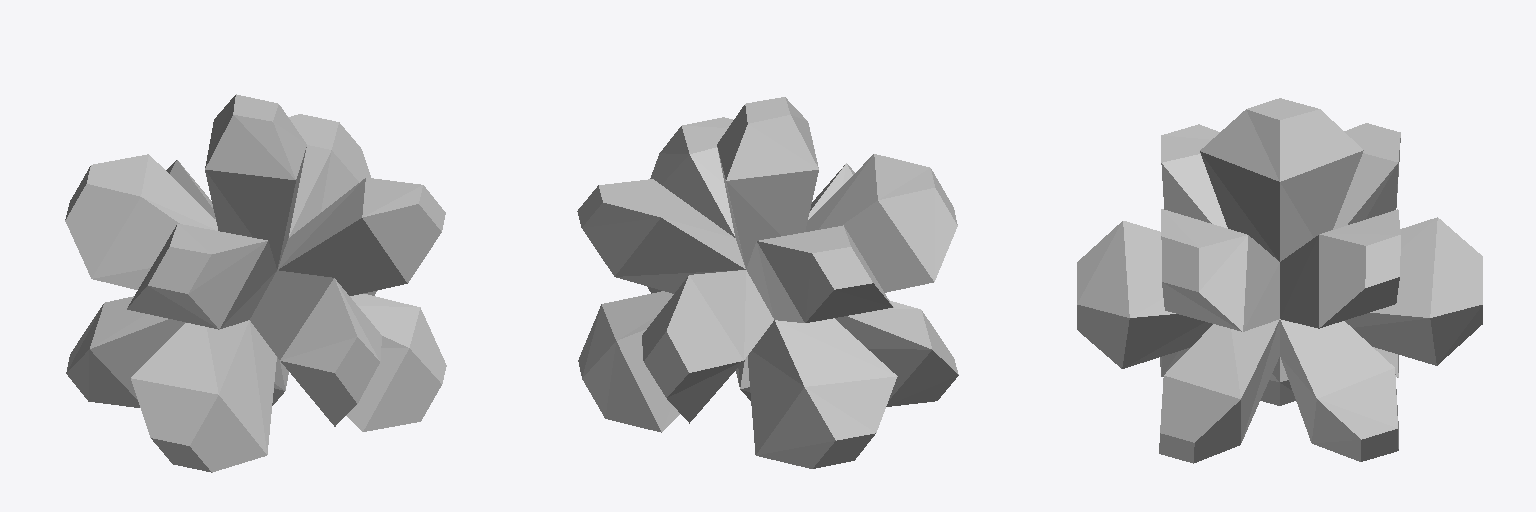
File: crystalAir.obj
The picture shows the model from 3 angles: view 1: azimuth 30°, elevation 25°; view 2: azimuth 150°, elevation 25°; view 3: azimuth 270°, elevation 25°; orthographic projection.
Visible parts, largest first — view 1: Cube5_default; view 2: Cube5_default; view 3: Cube5_default.
Boxes of the visible parts, <box> form: Cube5_default: <box>65,94,446,472</box>; Cube5_default: <box>577,97,958,468</box>; Cube5_default: <box>1077,98,1482,463</box>.
Size of the model in its own units: 1.07 by 1.01 by 1.26.